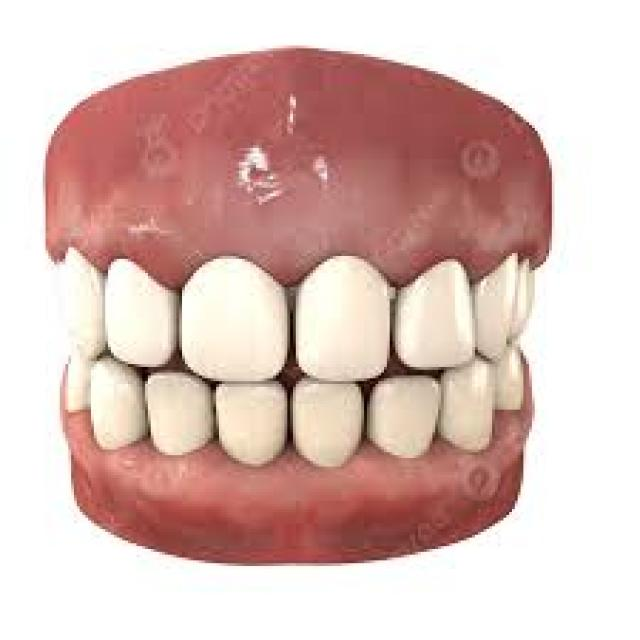tooth: (179, 268, 287, 382), (302, 264, 392, 378), (102, 267, 174, 367), (404, 276, 475, 367), (148, 372, 216, 463), (376, 373, 450, 452), (438, 370, 509, 452), (293, 381, 367, 458), (481, 267, 546, 353), (94, 361, 151, 458), (216, 387, 285, 466), (54, 254, 105, 358), (486, 353, 535, 415), (57, 356, 94, 415)
